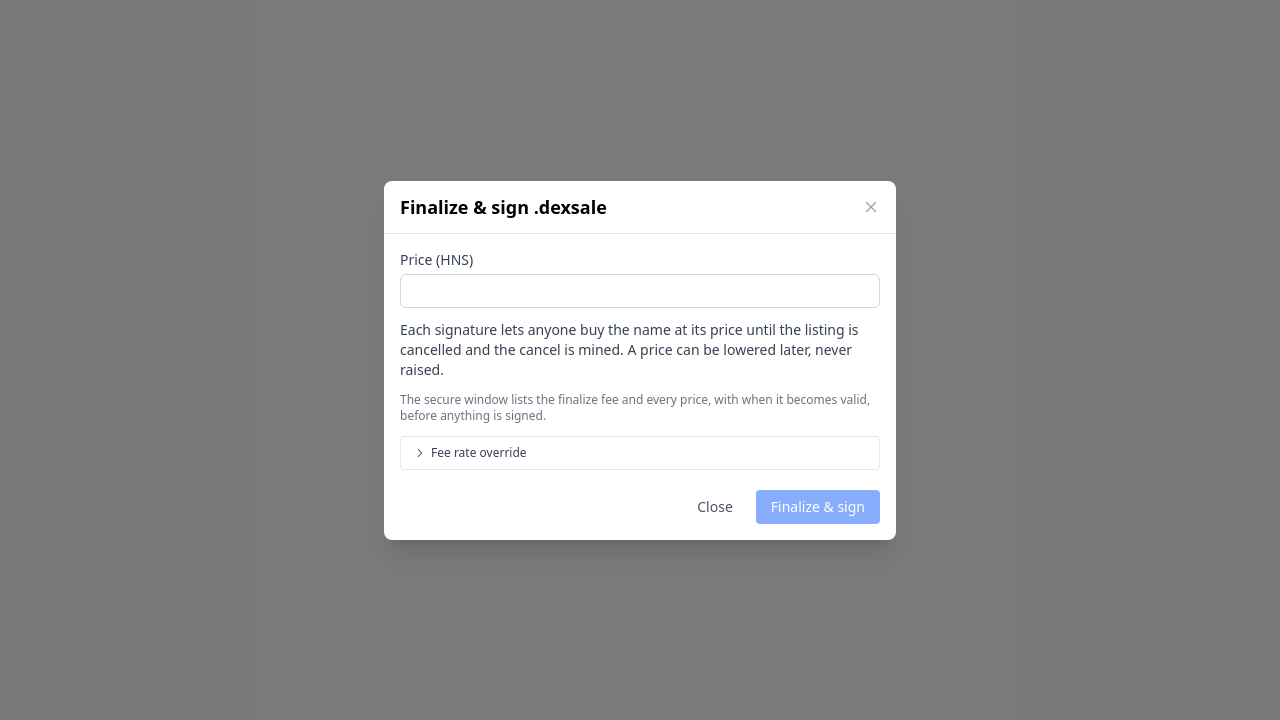
Test case: FinalizeAndSign › shows a declined confirmation and sends nothing
Step 1. Type "5" into the field with test id "fas-price" → [640, 290], box [400,274,880,308]
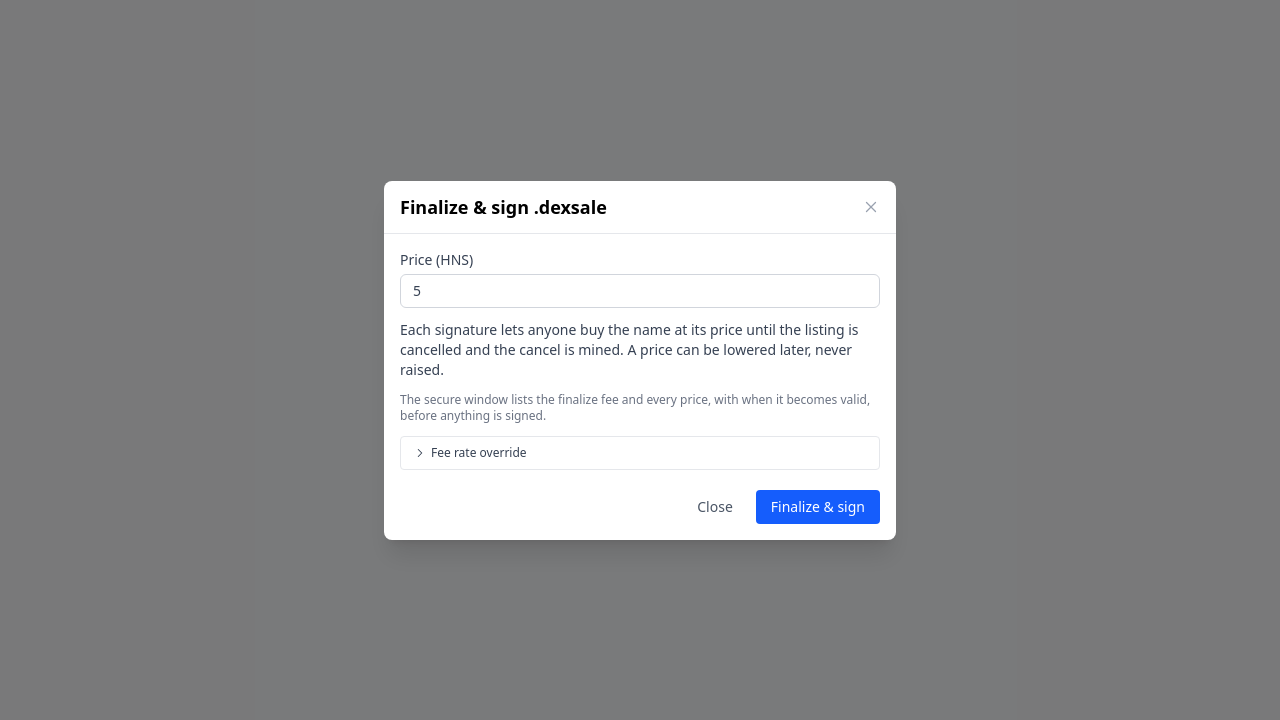
Result: the button with test id "fas-submit" is enabled
Step 2. Click the button with test id "fas-submit" → [818, 506], box [756,490,880,524]
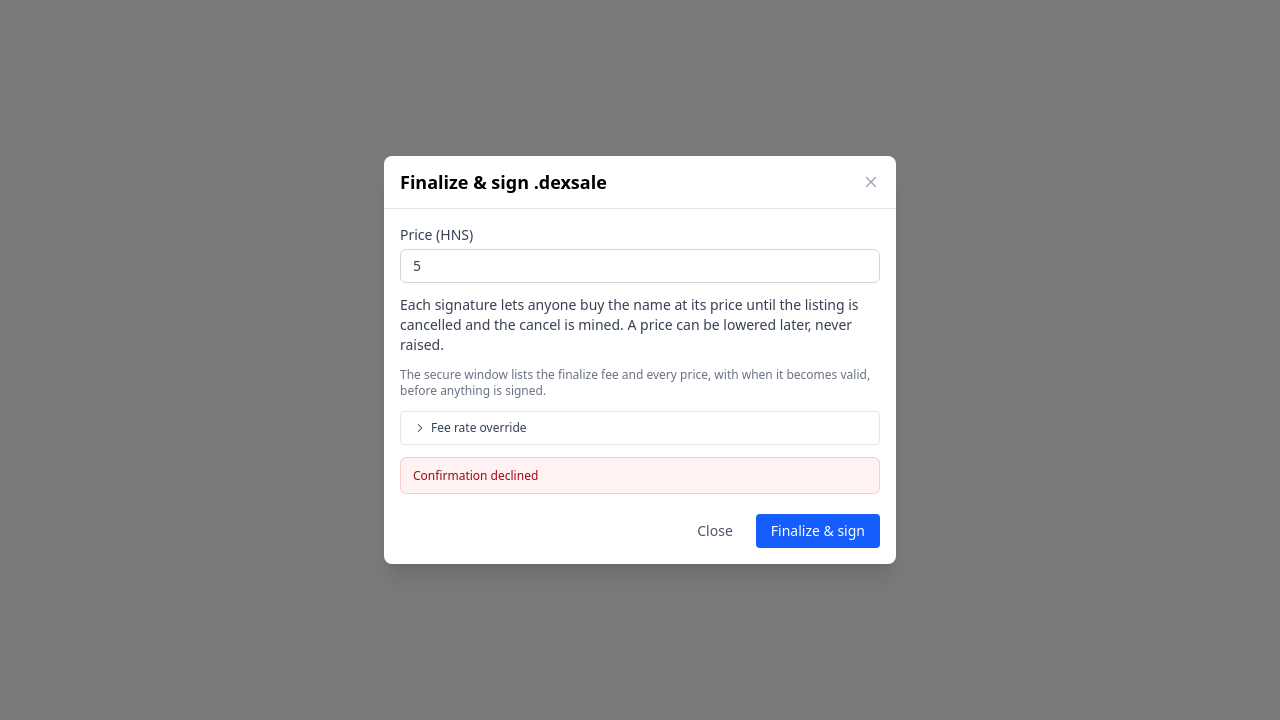
Result: the text with test id "fas-error" reads "Confirmation declined" at [413,467,538,484]
